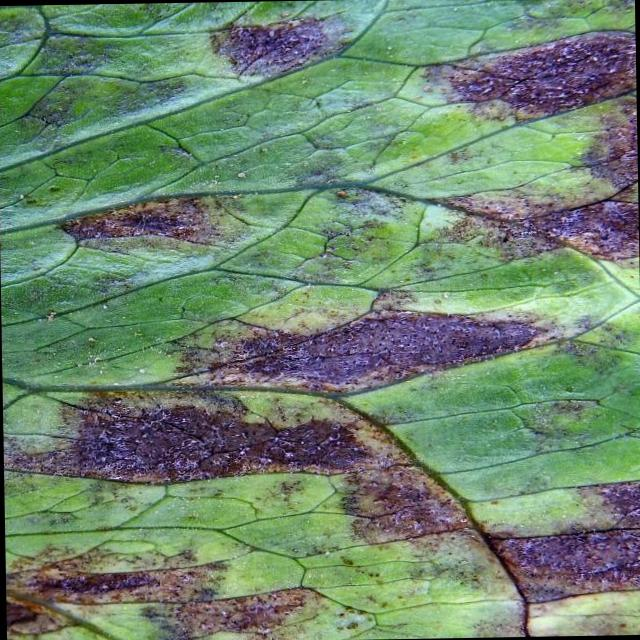Septoria_Blight: (7, 9, 637, 636)
